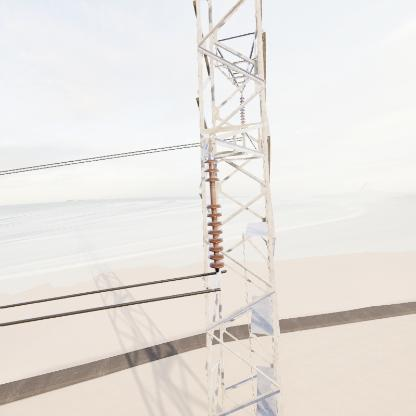insulator: (203, 154, 229, 276)
